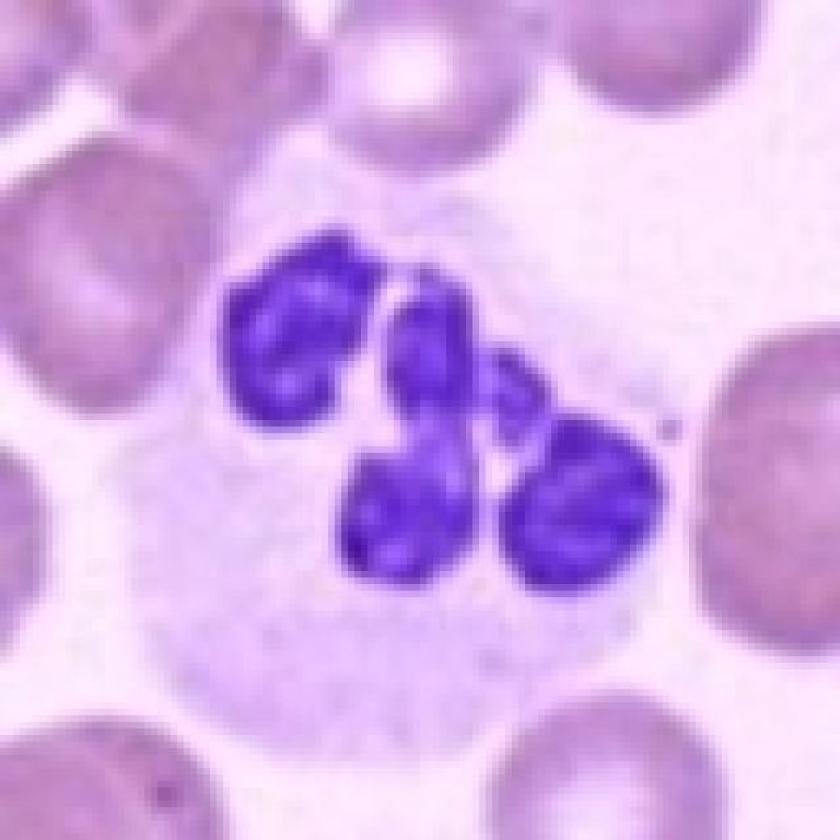neutrophil: (109, 189, 706, 775)
